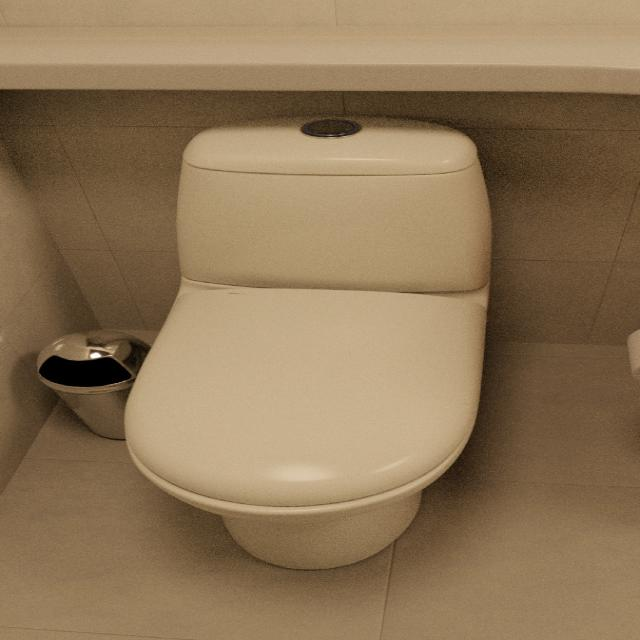toilet: (122, 114, 492, 571)
